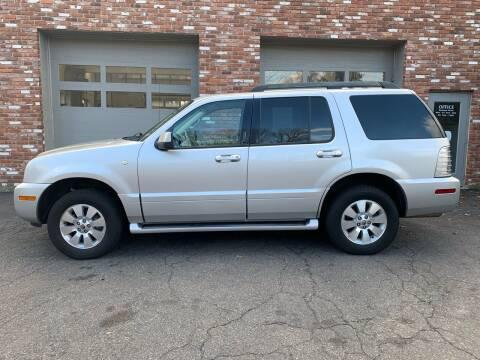Front_Bumper: (13, 182, 50, 228)
Front_Fender: (24, 144, 147, 224)
Front_Left_Door: (139, 146, 248, 224)
Front_Left_Window: (141, 98, 254, 149)
Left_Taillight: (436, 148, 451, 179)
Rear_Bumper: (398, 178, 462, 219)
Rear_Fender: (333, 96, 450, 182)
Rear_Left_Door: (247, 143, 354, 222)
Rear_Left_Window: (250, 98, 348, 148)
Roof: (145, 87, 414, 146)
Wheel: (47, 190, 123, 258), (327, 187, 401, 254)
